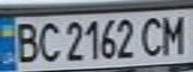1: (81, 17, 100, 61)
2: (115, 15, 139, 60), (63, 17, 84, 62)
6: (100, 16, 121, 61)
B: (9, 19, 42, 64)
C: (136, 14, 166, 57), (36, 19, 63, 63)
M: (157, 11, 190, 56)
